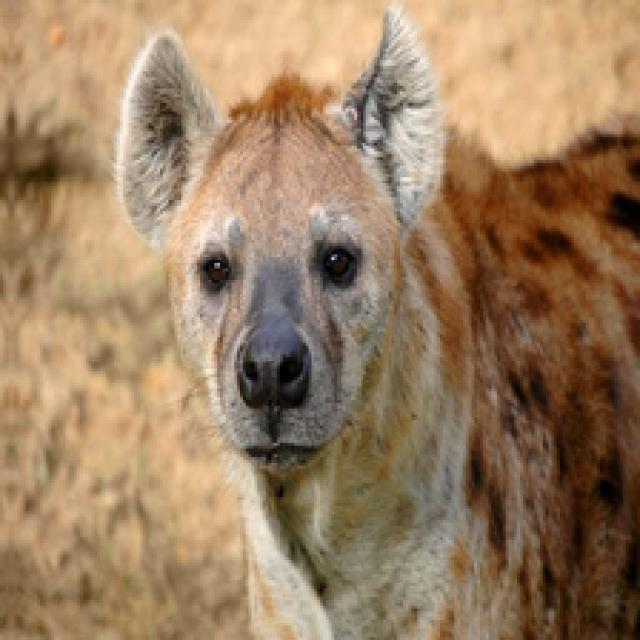hyena: (105, 15, 640, 640)
